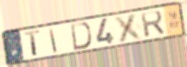4: (95, 16, 118, 46)
D: (70, 21, 93, 51)
I: (49, 27, 59, 54)
R: (139, 10, 167, 39)
T: (23, 29, 42, 57)
X: (113, 12, 146, 44)
